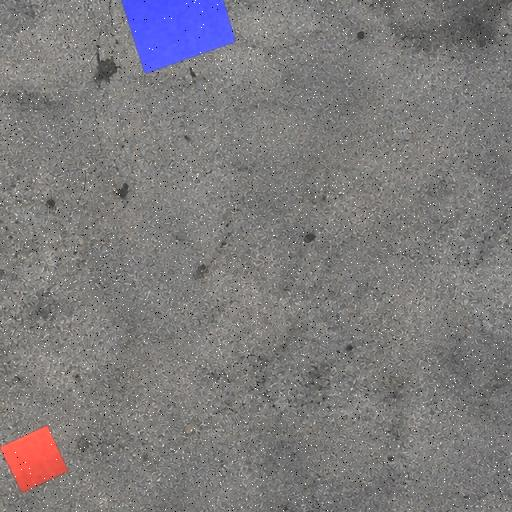BLUE_SQUARE: (113, 0, 236, 74)
RED_SQUARE: (0, 424, 70, 494)
